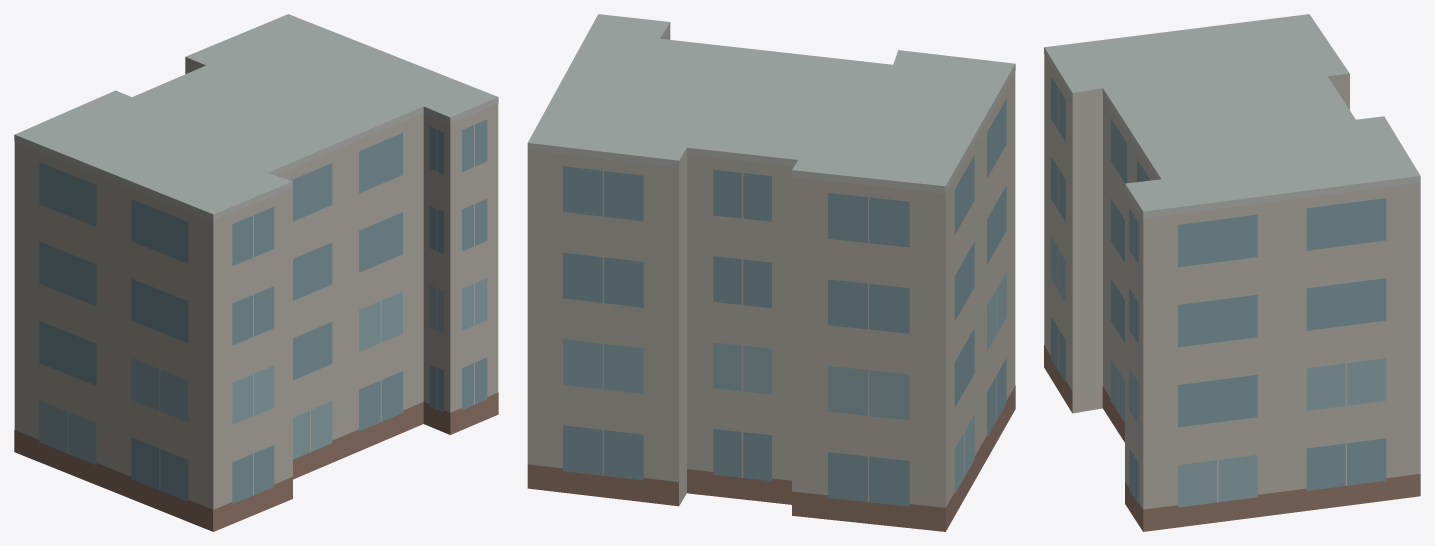
Rendered from survey-upis-32984960.glb.
3 views of the same model, side by side, from view 1: azimuth 30°, elevation 25°; view 2: azimuth 150°, elevation 25°; view 3: azimuth 270°, elevation 25° (orthographic). The views are drawn at different scales.
Parts seen in each view (by area): view 1: survey-upis-32984960.tmp; view 2: survey-upis-32984960.tmp; view 3: survey-upis-32984960.tmp.
Boxes of the visible parts, x1=… form: survey-upis-32984960.tmp: x1=14, y1=14, x2=498, y2=531; survey-upis-32984960.tmp: x1=527, y1=14, x2=1015, y2=531; survey-upis-32984960.tmp: x1=1044, y1=14, x2=1420, y2=531.
Bounding box in the file's own units: 15.56 × 11.75 × 12.53.
